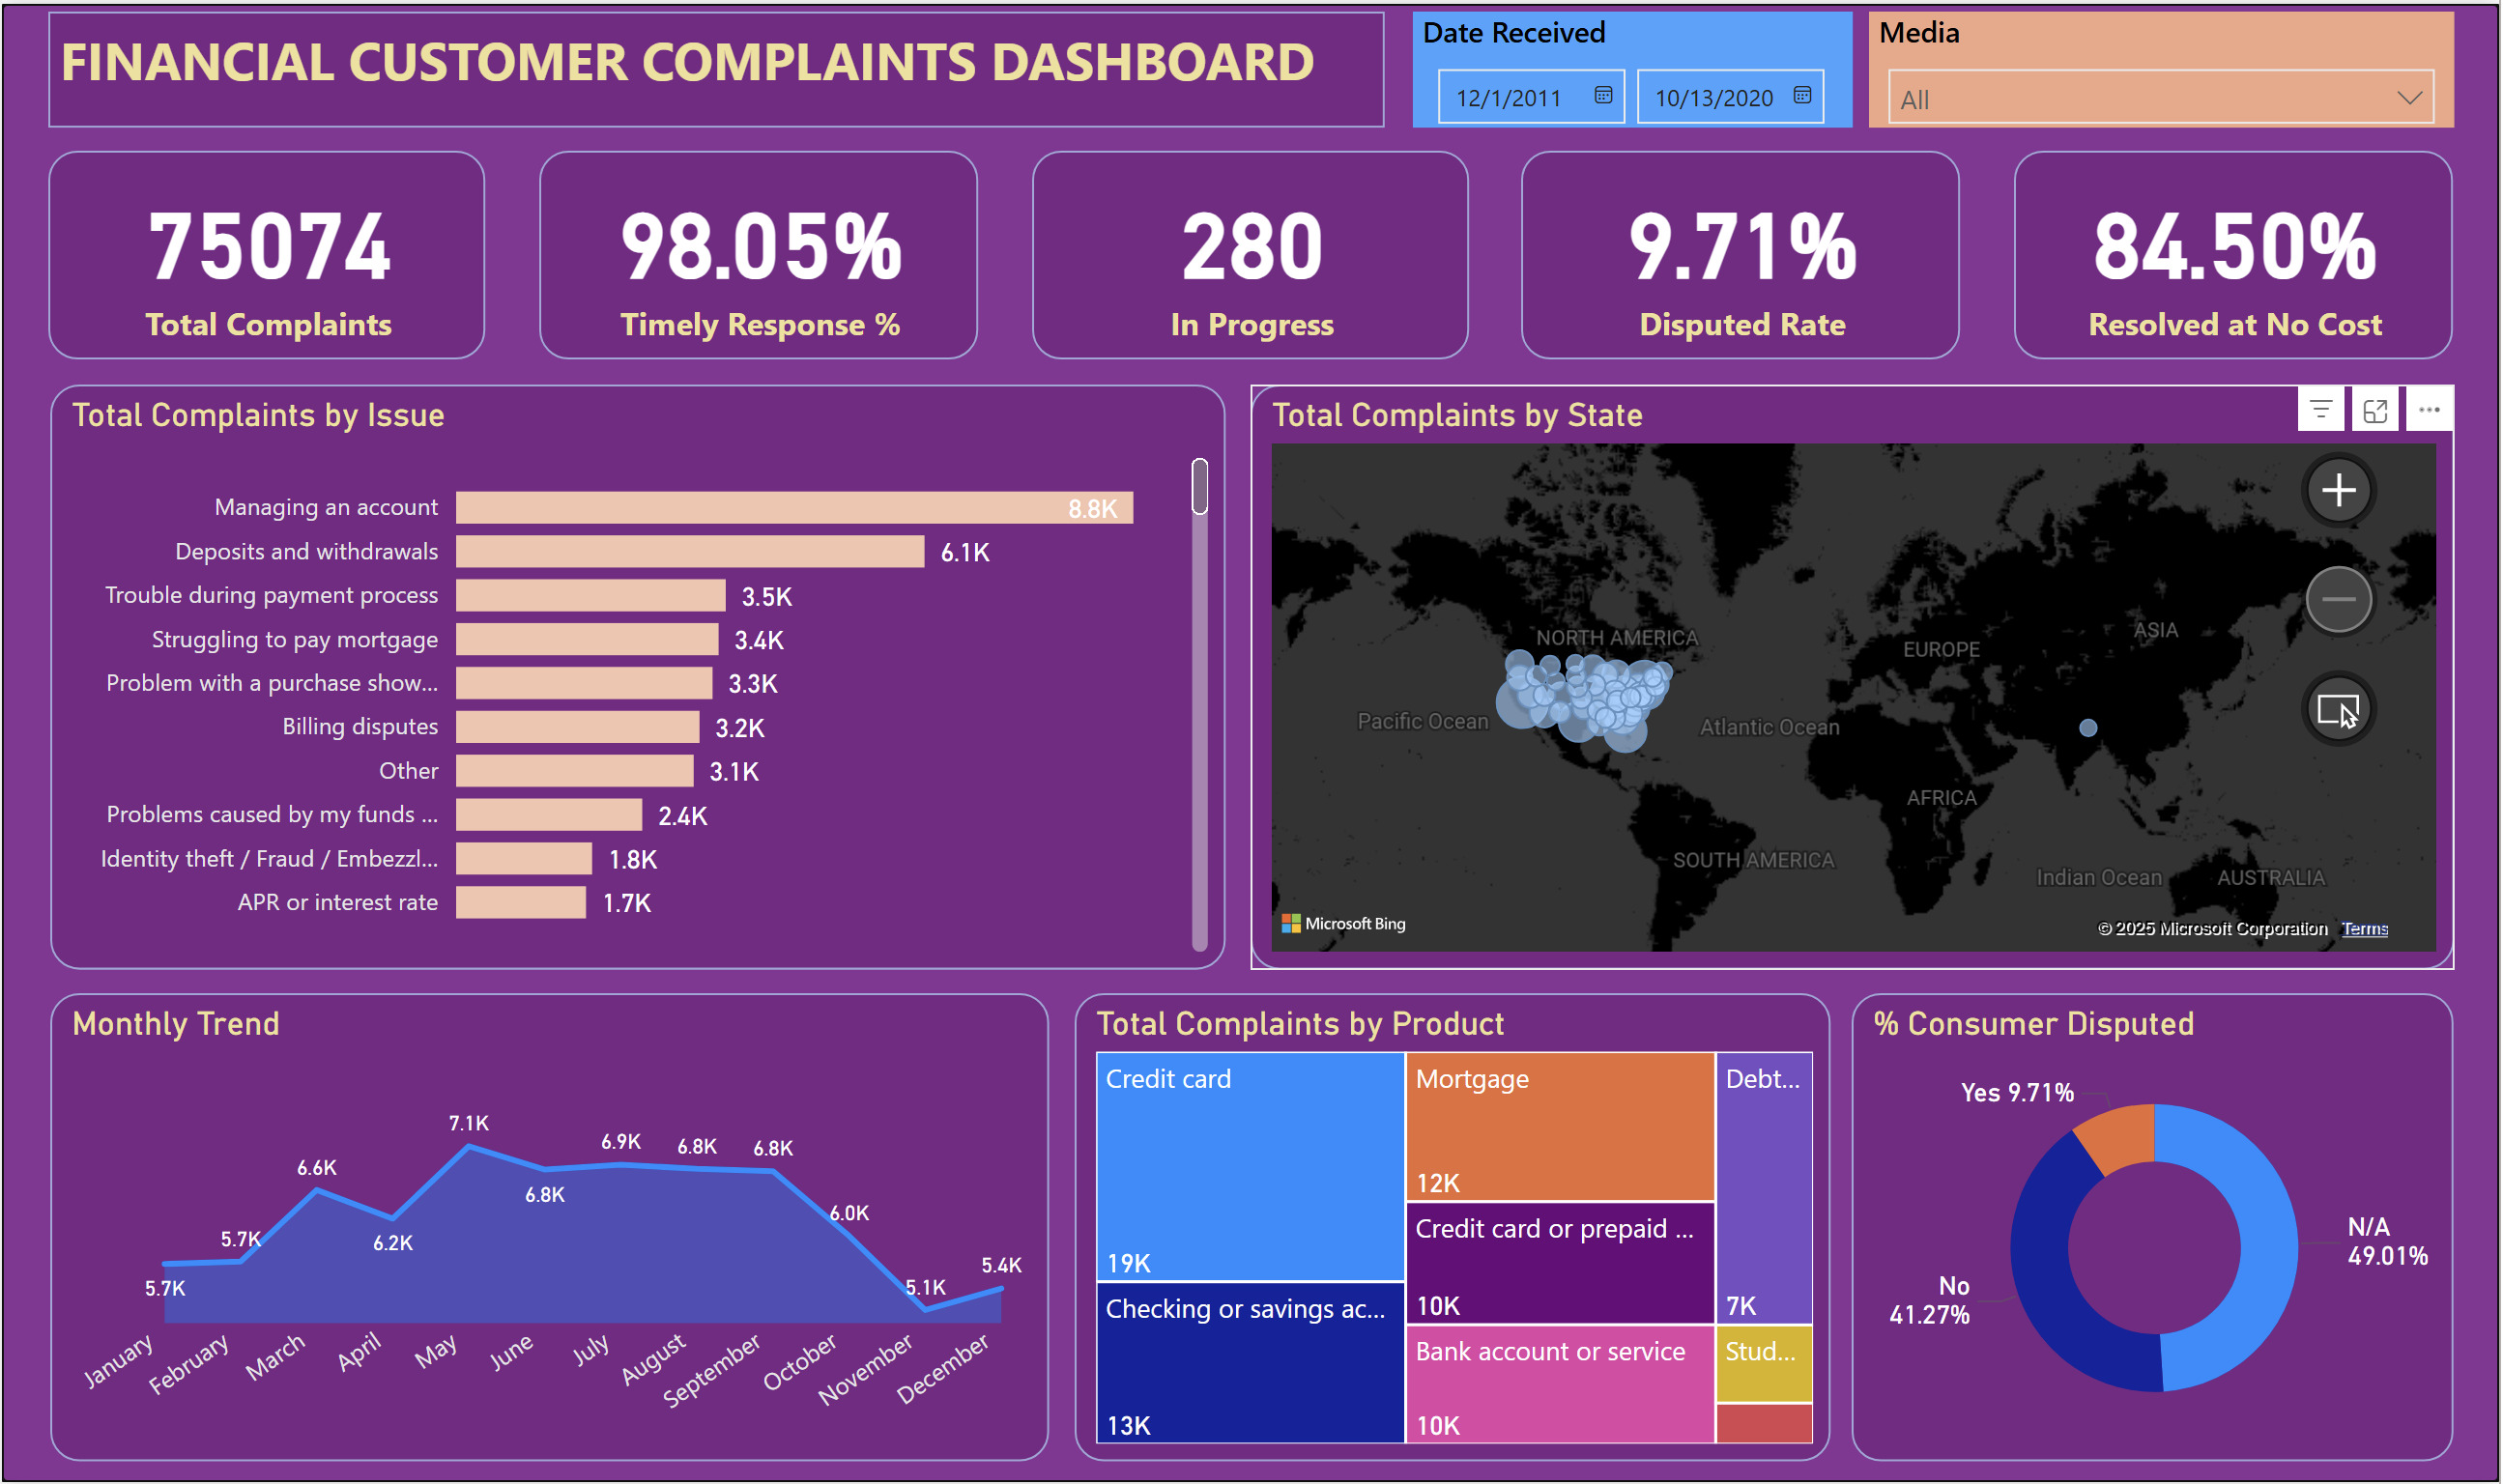

Layout of this report page (visuals, bound fields, positions):
{"tool":"powerbi","page":{"name":"Page 1","canvas":[1280,758],"ordinal":0},"visuals":[{"type":"card","fields":{"Values":["Financial Consumer Complaints_Financial Consumer Complaints.Total Complaints"]},"box":[23.8,75.2,223.9,107],"z":0},{"type":"textbox","box":[23.8,3.6,684.8,59.5],"z":1000},{"type":"card","fields":{"Values":["Financial Consumer Complaints_Financial Consumer Complaints.Tomely Response %"]},"box":[275.5,75.2,225.1,107],"z":2000},{"type":"card","fields":{"Values":["Financial Consumer Complaints_Financial Consumer Complaints.In Progress Complaints"]},"box":[527.9,75.2,223.9,107],"z":3000},{"type":"card","fields":{"Values":["Financial Consumer Complaints_Financial Consumer Complaints.Consumer Disputed Rate"]},"box":[779.1,75.2,225,107],"z":4000},{"type":"card","fields":{"Values":["Financial Consumer Complaints_Financial Consumer Complaints.Resolved at No Cost"]},"box":[1031.3,75.2,225.1,107],"z":5000},{"type":"barChart","fields":{"Category":["Financial Consumer Complaints_Financial Consumer Complaints.Issue"],"Y":["Financial Consumer Complaints_Financial Consumer Complaints.Total Complaints"]},"box":[24.4,195.1,602.3,299.9],"z":6000},{"type":"map","fields":{"Category":["Financial Consumer Complaints_Financial Consumer Complaints.State"],"Size":["Financial Consumer Complaints_Financial Consumer Complaints.Total Complaints"]},"box":[640.1,195.1,617,299.9],"z":7000},{"type":"areaChart","title":"Monthly Trend","fields":{"Category":["Financial Consumer Complaints_Financial Consumer Complaints.Date Received.Variation.Date Hierarchy.Month"],"Y":["Financial Consumer Complaints_Financial Consumer Complaints.Total Complaints"]},"box":[24.4,507.2,512.1,240.2],"z":8000},{"type":"treemap","fields":{"Group":["Financial Consumer Complaints_Financial Consumer Complaints.Product"],"Values":["Financial Consumer Complaints_Financial Consumer Complaints.Total Complaints"]},"box":[549.9,507.2,387.7,240.2],"z":9000},{"type":"donutChart","title":"% Consumer Disputed","fields":{"Category":["Financial Consumer Complaints_Financial Consumer Complaints.Consumer disputed?"],"Y":["Financial Consumer Complaints_Financial Consumer Complaints.Total Complaints"]},"box":[948.6,507.2,308.5,240.2],"z":10000},{"type":"slicer","title":"Date Received","fields":{"Values":["Financial Consumer Complaints_Financial Consumer Complaints.Date Received"]},"box":[723,3.7,225.6,59.7],"z":11000},{"type":"slicer","title":"Media","fields":{"Values":["Financial Consumer Complaints_Financial Consumer Complaints.Submitted via"]},"box":[957.1,3.7,299.9,59.7],"z":12000}]}

Visuals, with their boxes in screenshot pixels (x1, y1, x2, y2), scaled from the page's 1280x758 canvas onto the 2503x1484 screenshot:
card - Financial Consumer Complaints_Financial Consumer Complaints.Total Complaints: rect(46, 147, 484, 357)
textbox: rect(46, 7, 1386, 124)
card - Financial Consumer Complaints_Financial Consumer Complaints.Tomely Response %: rect(538, 147, 979, 357)
card - Financial Consumer Complaints_Financial Consumer Complaints.In Progress Complaints: rect(1032, 147, 1470, 357)
card - Financial Consumer Complaints_Financial Consumer Complaints.Consumer Disputed Rate: rect(1523, 147, 1964, 357)
card - Financial Consumer Complaints_Financial Consumer Complaints.Resolved at No Cost: rect(2017, 147, 2457, 357)
barChart - Financial Consumer Complaints_Financial Consumer Complaints.Issue x Financial Consumer Complaints_Financial Consumer Complaints.Total Complaints: rect(47, 382, 1225, 969)
map - Financial Consumer Complaints_Financial Consumer Complaints.State x Financial Consumer Complaints_Financial Consumer Complaints.Total Complaints: rect(1251, 382, 2459, 969)
"Monthly Trend" areaChart: rect(47, 993, 1050, 1464)
treemap - Financial Consumer Complaints_Financial Consumer Complaints.Product x Financial Consumer Complaints_Financial Consumer Complaints.Total Complaints: rect(1076, 993, 1833, 1464)
"% Consumer Disputed" donutChart: rect(1855, 993, 2459, 1464)
"Date Received" slicer: rect(1414, 7, 1855, 124)
"Media" slicer: rect(1872, 7, 2458, 124)
